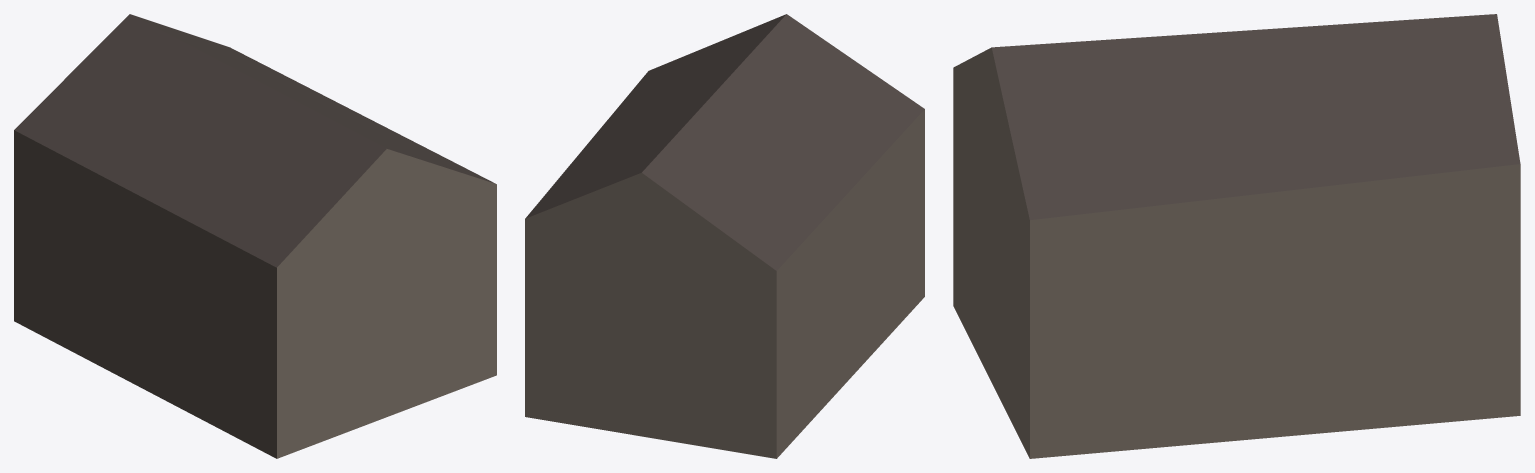
3 renders of one model, left to right at view 1: azimuth 30°, elevation 25°; view 2: azimuth 150°, elevation 25°; view 3: azimuth 270°, elevation 25°, orthographic. The views are drawn at different scales.
Visible parts, largest first — view 1: HP-w1365659945; view 2: HP-w1365659945; view 3: HP-w1365659945.
Boxes of the visible parts, x1,y1,x2,y2 form: HP-w1365659945: (14,14,496,458); HP-w1365659945: (525,14,924,458); HP-w1365659945: (953,14,1520,458).
Bounding box in the file's own units: 10.07 × 8.43 × 12.92.
